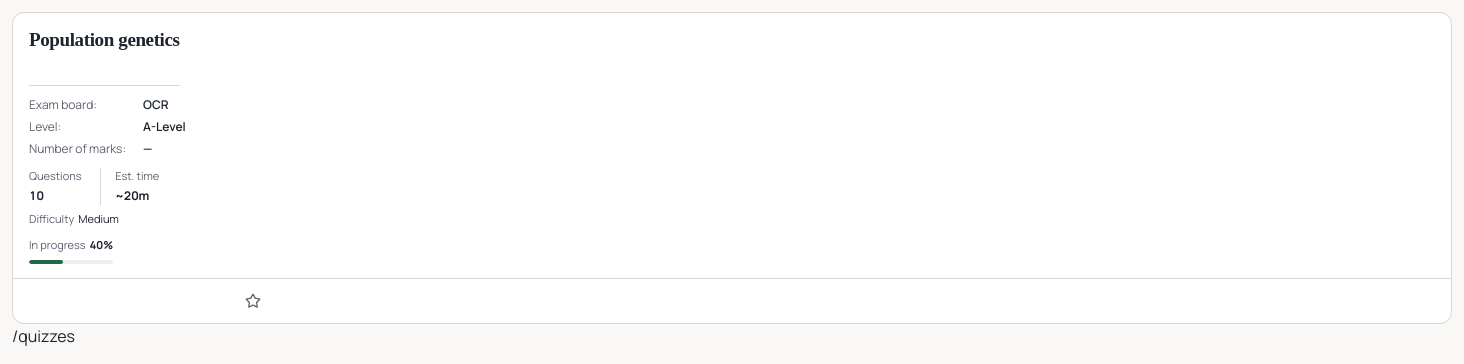
Test case: compact paper covers › retains quiz calculations, difficulty and its existing cover route
Expected: the text "~20m" is shown, left=115, top=186, right=149, bottom=204
Expected: the text "medium" is shown, left=78, top=210, right=119, bottom=227
Click the button with aria-label "Open Population genetics". click: (732, 146)
box: left=13, top=13, right=1451, bottom=278
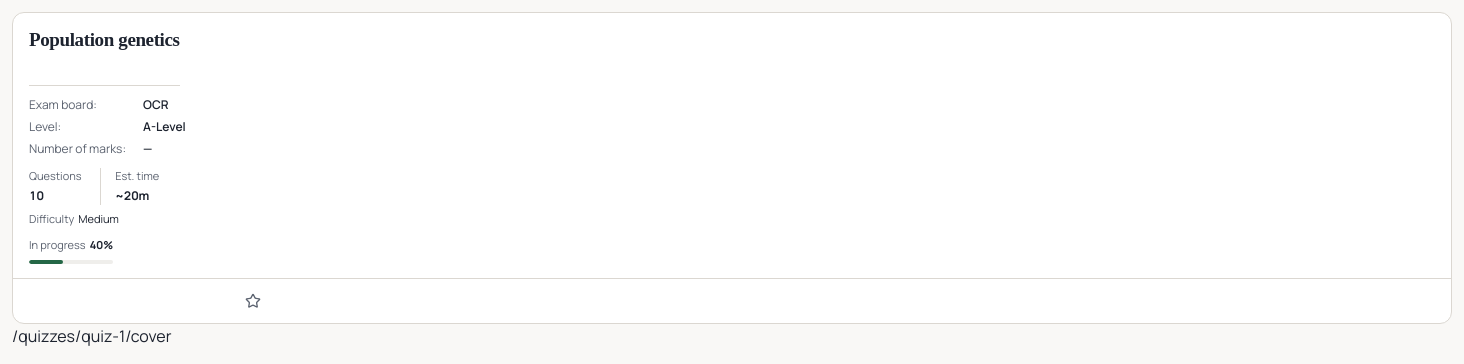
Result: the text named "path" reads "/quizzes/quiz-1/cover" at left=12, top=325, right=171, bottom=347
